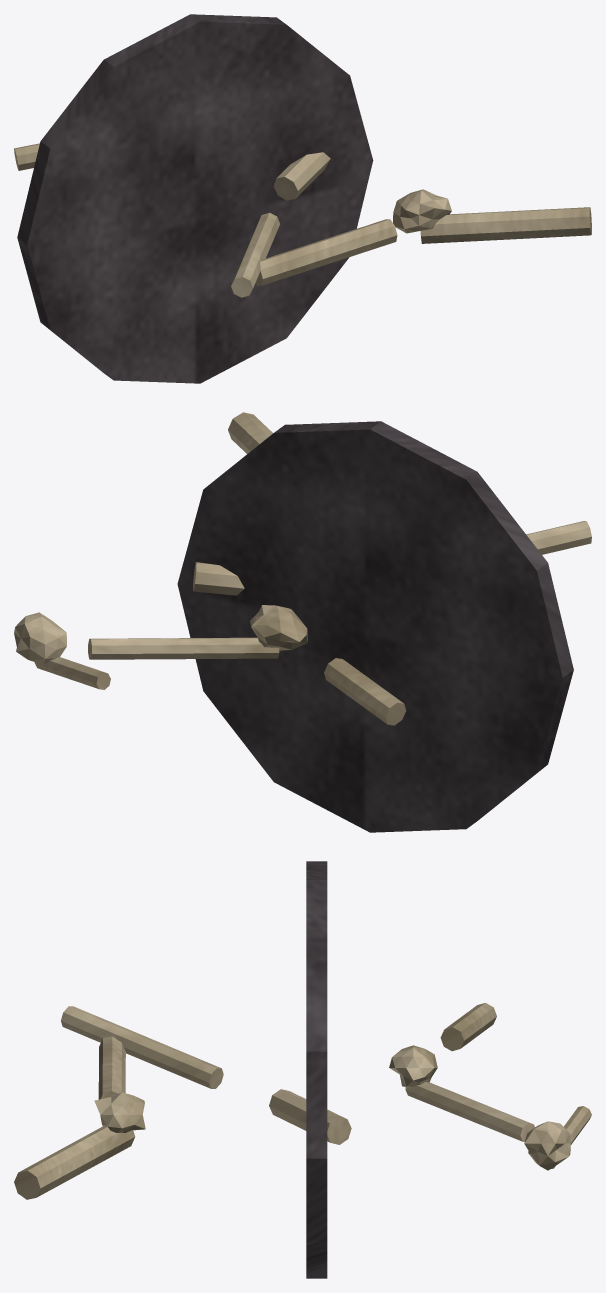
File: 0238_bone_heap_13.glb
3 renders of one model, top to bottom at view 1: azimuth 30°, elevation 25°; view 2: azimuth 150°, elevation 25°; view 3: azimuth 270°, elevation 25°, orthographic. The views are drawn at different scales.
Visible parts, largest first — view 1: ash, bone; view 2: ash, bone; view 3: bone, ash.
Boxes of the visible parts, x1,y1,x2,y2 form: ash: [17, 14, 373, 383]; bone: [14, 143, 591, 297]; ash: [177, 421, 573, 832]; bone: [14, 412, 591, 725]; bone: [14, 1003, 591, 1199]; ash: [306, 861, 327, 1278].
Bounding box in the file's own units: 2.02 × 1.6 × 2.21.
2 materials, 2 textured.
